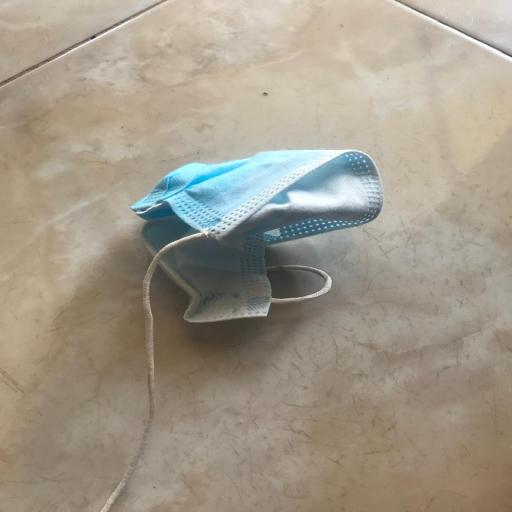waste: (105, 132, 393, 512)
